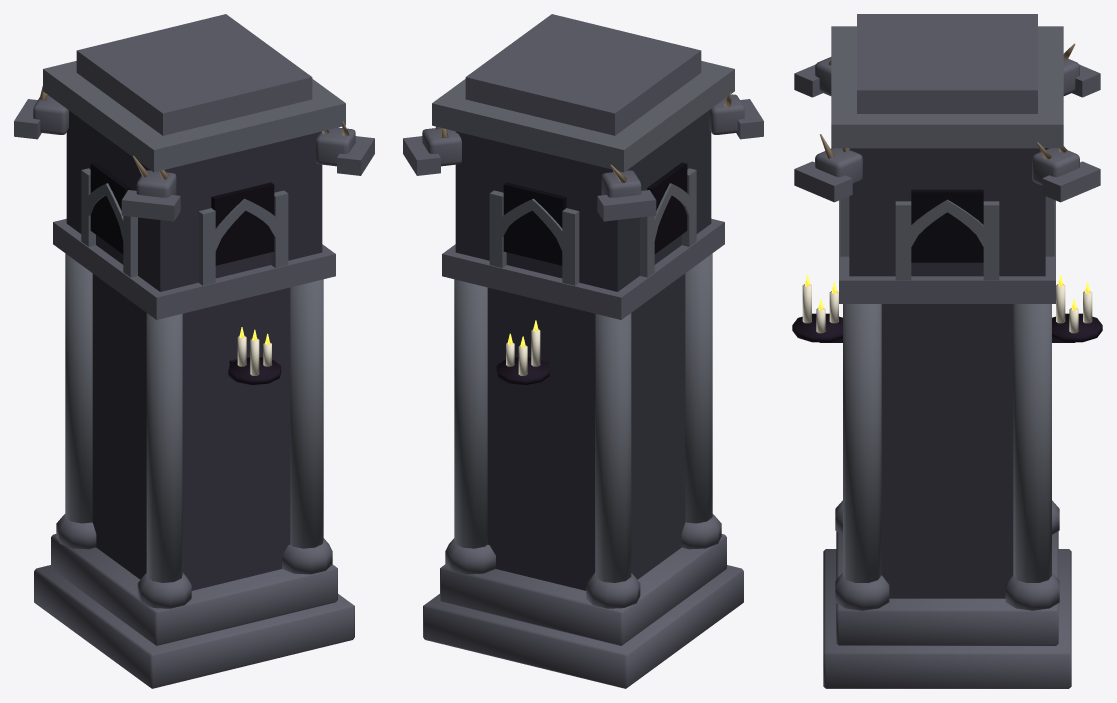
File: kit_pillar_castle.glb
The picture shows the model from 3 angles, left to right: view 1: azimuth 30°, elevation 25°; view 2: azimuth 150°, elevation 25°; view 3: azimuth 270°, elevation 25°; orthographic projection. The views are drawn at different scales.
Parts seen in each view (by area): view 1: kit_pillar_castle; view 2: kit_pillar_castle; view 3: kit_pillar_castle.
Part boxes in pixels (x1,y1,x2,y2): kit_pillar_castle: [14, 14, 374, 688]; kit_pillar_castle: [403, 14, 763, 688]; kit_pillar_castle: [792, 14, 1102, 688].
Bounding box in the file's own units: 1.19 × 2.5 × 1.2.
